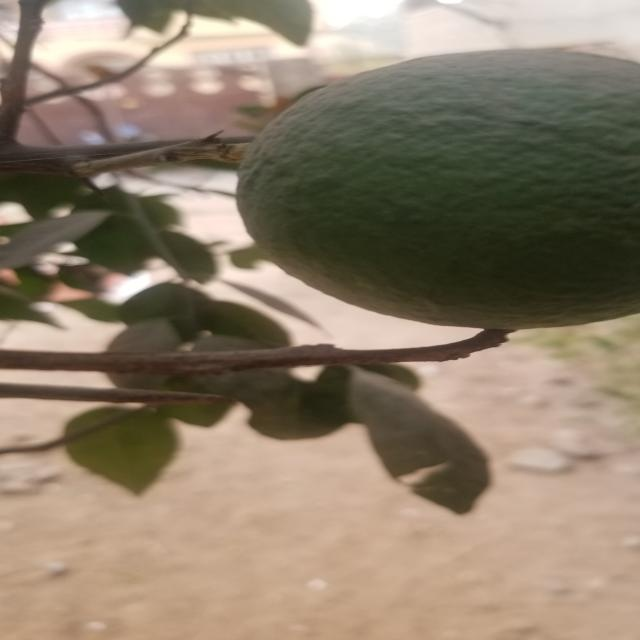agrume: (235, 54, 640, 330)
